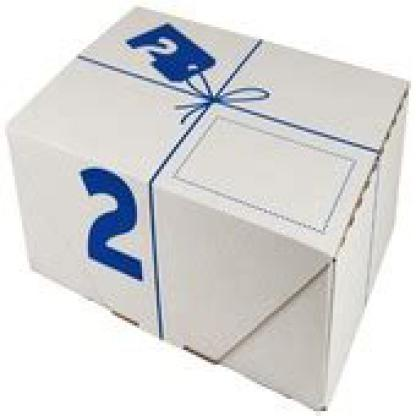box: (0, 0, 414, 411)
